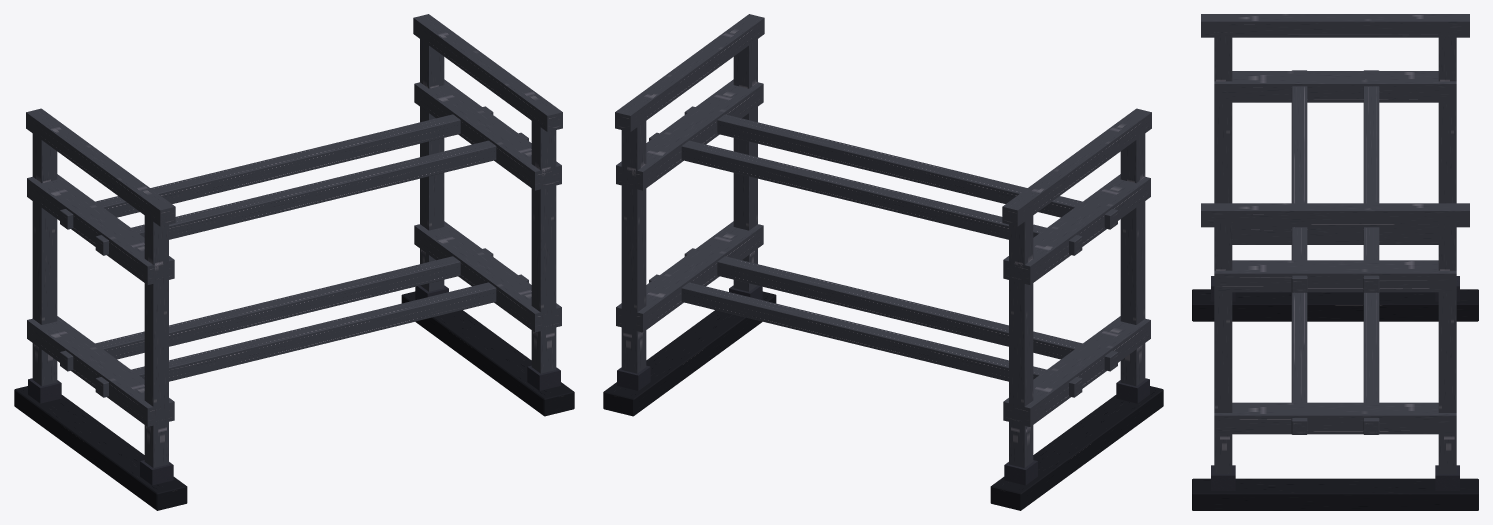
File: ball_rack.glb
3 views of the same model, side by side, from view 1: azimuth 30°, elevation 25°; view 2: azimuth 150°, elevation 25°; view 3: azimuth 270°, elevation 25° (orthographic).
Visible parts, largest first — view 1: arcade_ball_rack; view 2: arcade_ball_rack; view 3: arcade_ball_rack.
Boxes of the visible parts, box(x1,y1,x2,y2) form: arcade_ball_rack: box(14, 14, 574, 510); arcade_ball_rack: box(603, 14, 1163, 510); arcade_ball_rack: box(1192, 14, 1478, 510).
Size of the model in its own units: 1.1 by 0.73 by 0.64.
1 material, 1 textured.
